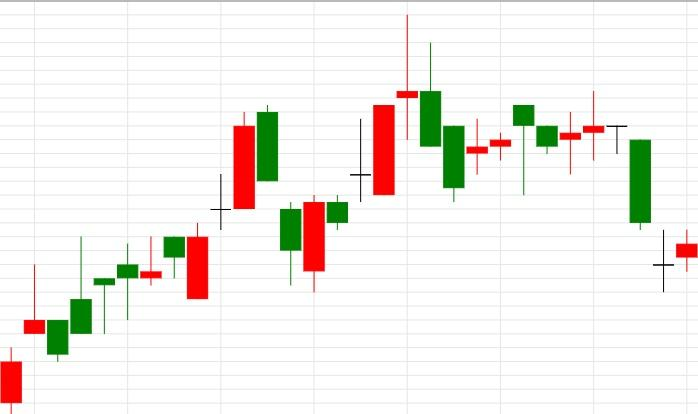evening_star_fall: (303, 15, 442, 292)
